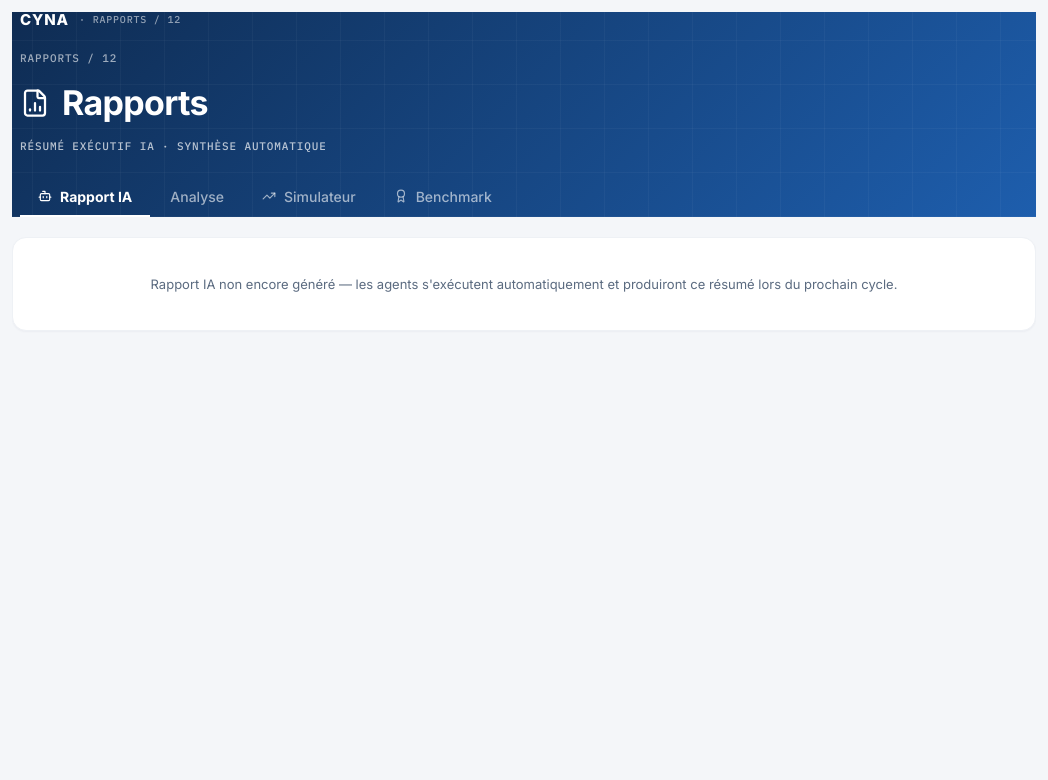
Test: SIMULATEUR / BENCHMARK — libellé de périmètre global › Benchmark déclare « tous les chantiers terminés · toutes périodes »
The image size is (1048, 780).
What coordinates should you click on to do the following:
click the button "Benchmark"
I would click on:
 (443, 197)
Its box is left=376, top=178, right=510, bottom=217.
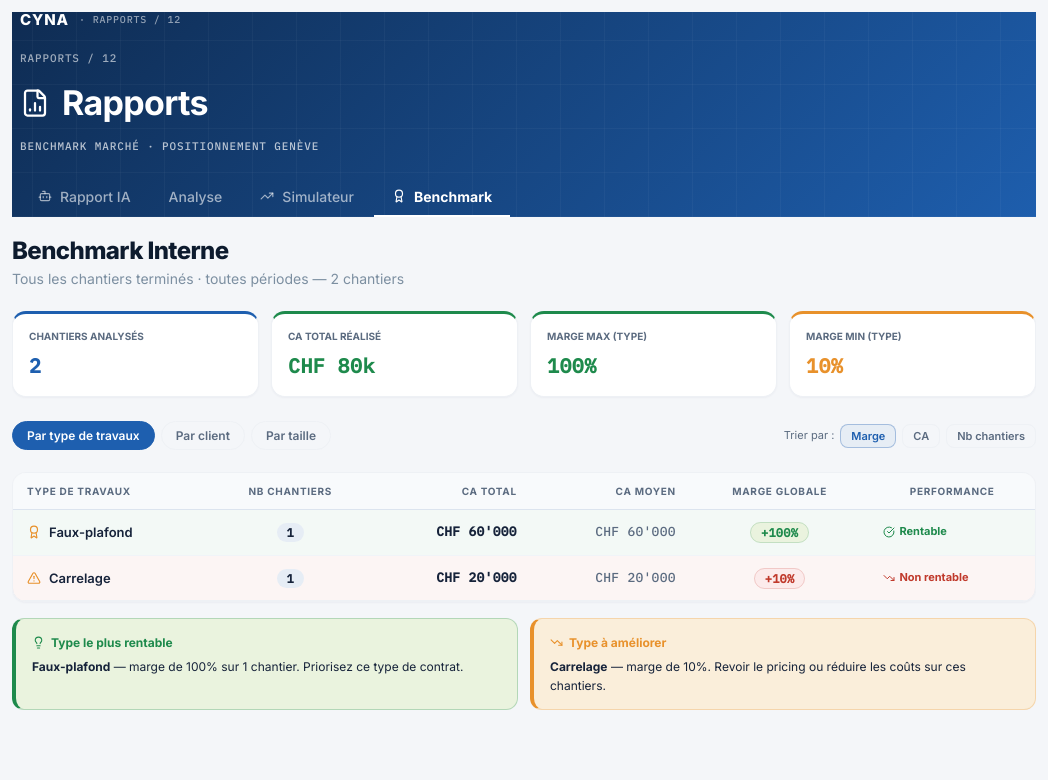
Expected: the text "Tous les chantiers terminés · toutes périodes — 2 chantiers" is shown, left=12, top=268, right=404, bottom=291
